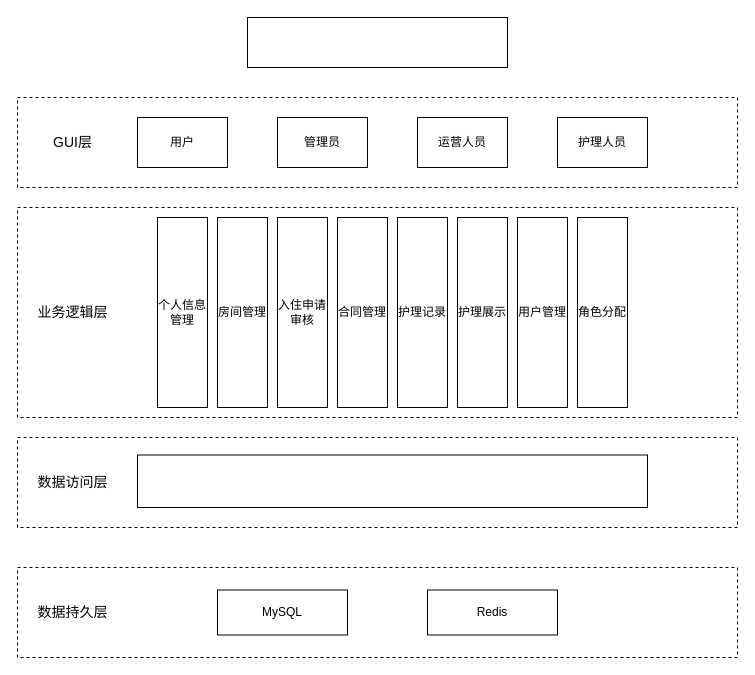
The diagram is 755 pixels wide and 675 high, and some of its shapes have lost their labels. Here are the shapes that lost their labels. From the top down, the centre of each, then its label:
At [377,42]: "老年公寓管理系统".
At [392,481]: "JDBC".
